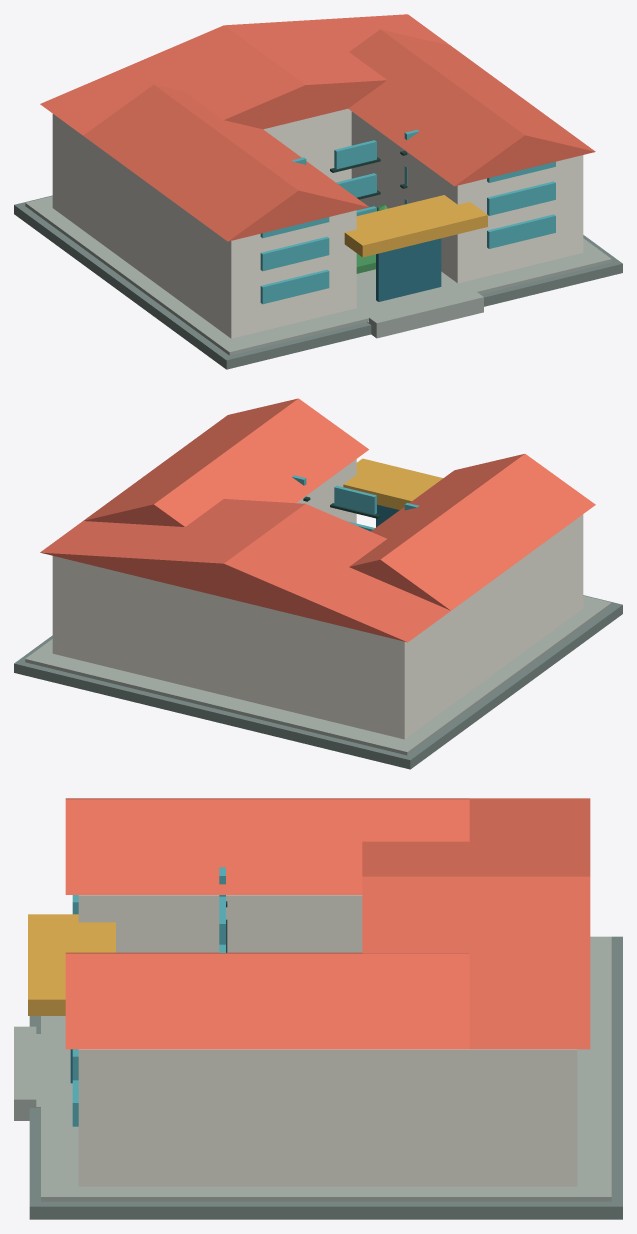
The model's file is school_lv2.glb.
3 views of the same model, one above another, from view 1: azimuth 30°, elevation 25°; view 2: azimuth 150°, elevation 25°; view 3: azimuth 270°, elevation 25° (orthographic). The views are drawn at different scales.
Visible parts, largest first — view 1: coral, ivory, concrete, glass, pavement, gold, glassDark; view 2: coral, ivory, concrete, pavement, gold, glass; view 3: coral, ivory, concrete, pavement, gold, glass.
Boxes of the visible parts, x1,y1,x2,y2 form: coral: (40,14,595,241); ivory: (52,108,583,338); concrete: (25,196,611,355); glass: (260,129,555,304); pavement: (14,195,622,369); gold: (344,195,487,257); glassDark: (376,238,441,301); coral: (40,398,595,642); ivory: (52,459,583,739); concrete: (25,595,611,755); pavement: (14,595,622,769); gold: (343,458,442,509); glass: (292,475,419,531); coral: (65,798,590,1049); ivory: (78,895,577,1186); concrete: (14,936,611,1201); pavement: (29,936,622,1219); gold: (28,914,115,1015); glass: (72,867,225,1126).
Bounding box in the file's own units: 9.8 × 3.52 × 9.34.
